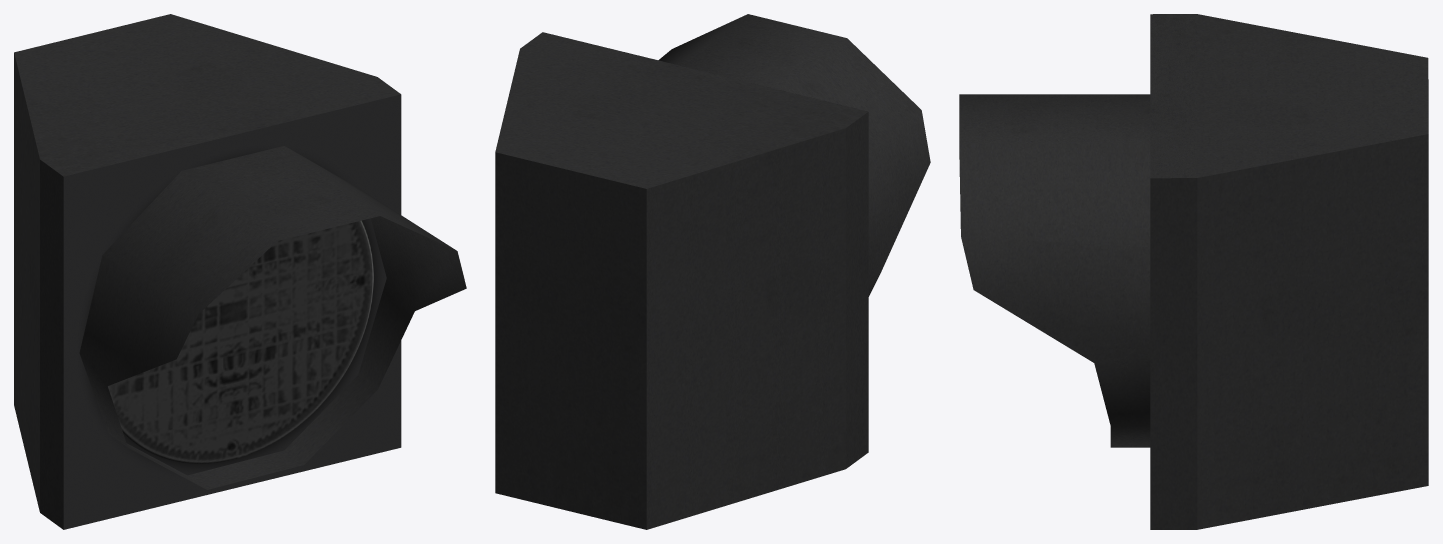
Rendered from Traffic light_Off_.FBX.
3 renders of one model, left to right at view 1: azimuth 30°, elevation 25°; view 2: azimuth 150°, elevation 25°; view 3: azimuth 270°, elevation 25°, orthographic. The views are drawn at different scales.
Visible parts, largest first — view 1: Traffic light_Off_; view 2: Traffic light_Off_; view 3: Traffic light_Off_.
Part boxes in pixels (x1,y1,x2,y2): Traffic light_Off_: (14, 14, 466, 529); Traffic light_Off_: (495, 14, 930, 529); Traffic light_Off_: (959, 14, 1428, 529).
Bounding box in the file's own units: 0.2507 × 0.2507 × 0.3032.
